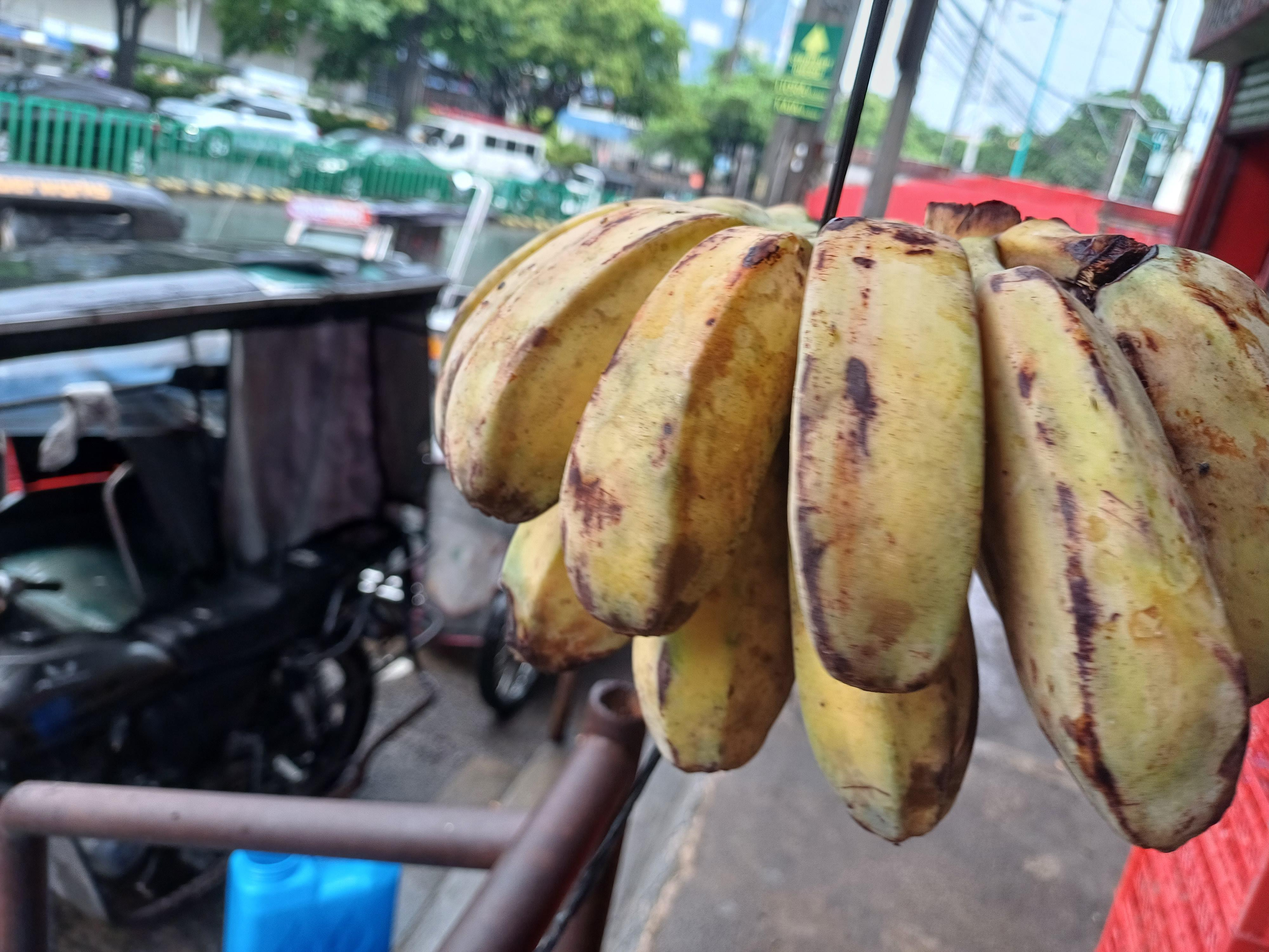underripe: (433, 197, 1269, 852)
